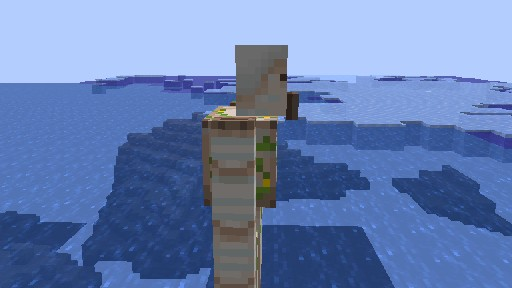iron_golem: (201, 43, 299, 288)
